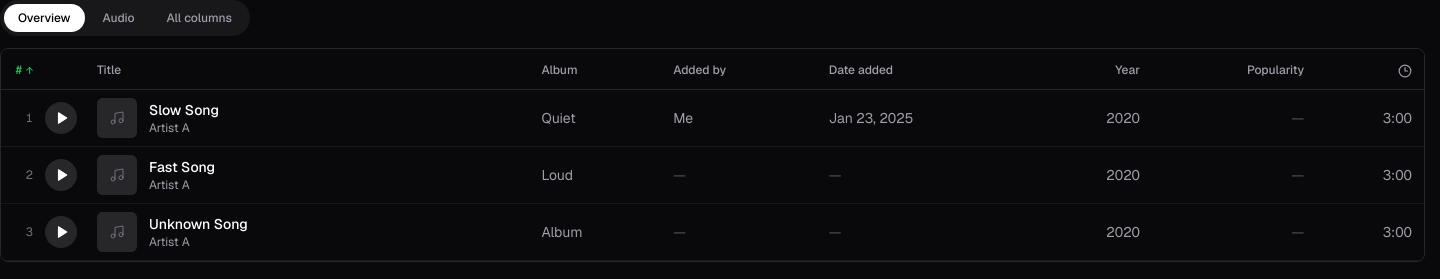
Test: TrackTable › starts on the Spotify-like overview and switches to the audio columns
Expected: the button "Album" is shown, [541,62,578,78]
Expected: the button "BPM" is not shown
Click the radio button labelled "Audio": click(118, 18) [88,4,148,32]
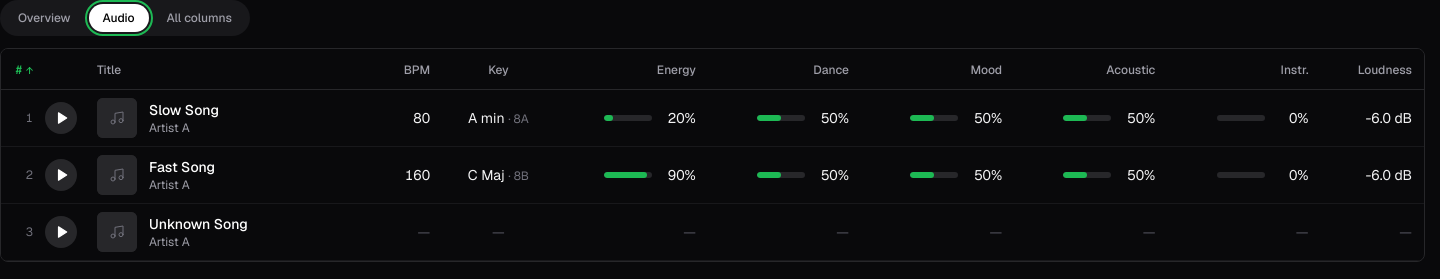
Expected: the button "BPM" is shown, [404,62,430,78]
Expected: the button "Album" is gone
Expected: the text "A min" is shown, [468,109,505,127]
